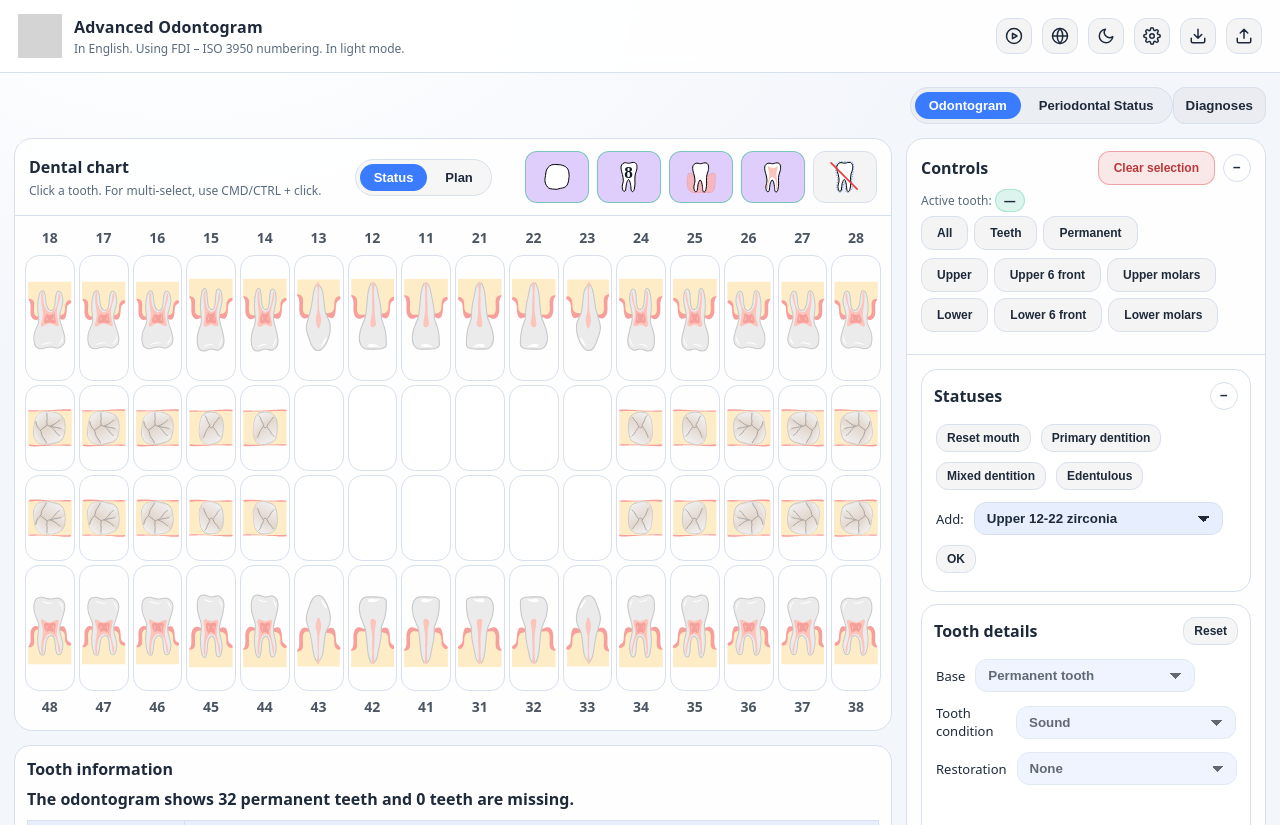
Scenario: Popups interaction characterization › A. Zoom Popover actions › Info button selects tooth and scrolls controls into view
Step 1. Press the mouse on the option named "11" → (426, 318), box [401,255,451,381]
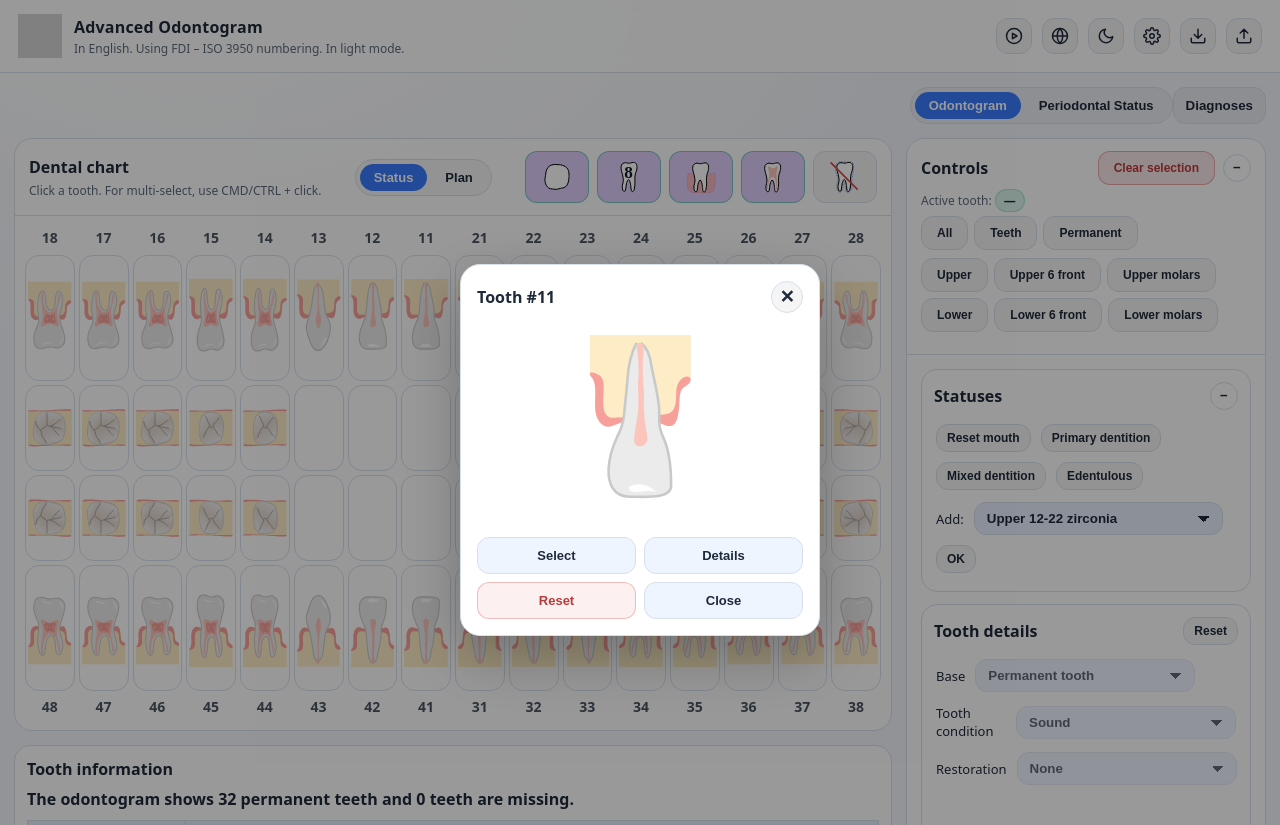
Expected: the element with class "odon-zoom-popover" is shown, [460,264,820,636]
Expected: the button with class "odon-zoom-btn" showing "Details" is shown
Step 2. Click the button with class "odon-zoom-btn" showing "Details" → (724, 556), box [644,537,803,574]
(page scrolled)
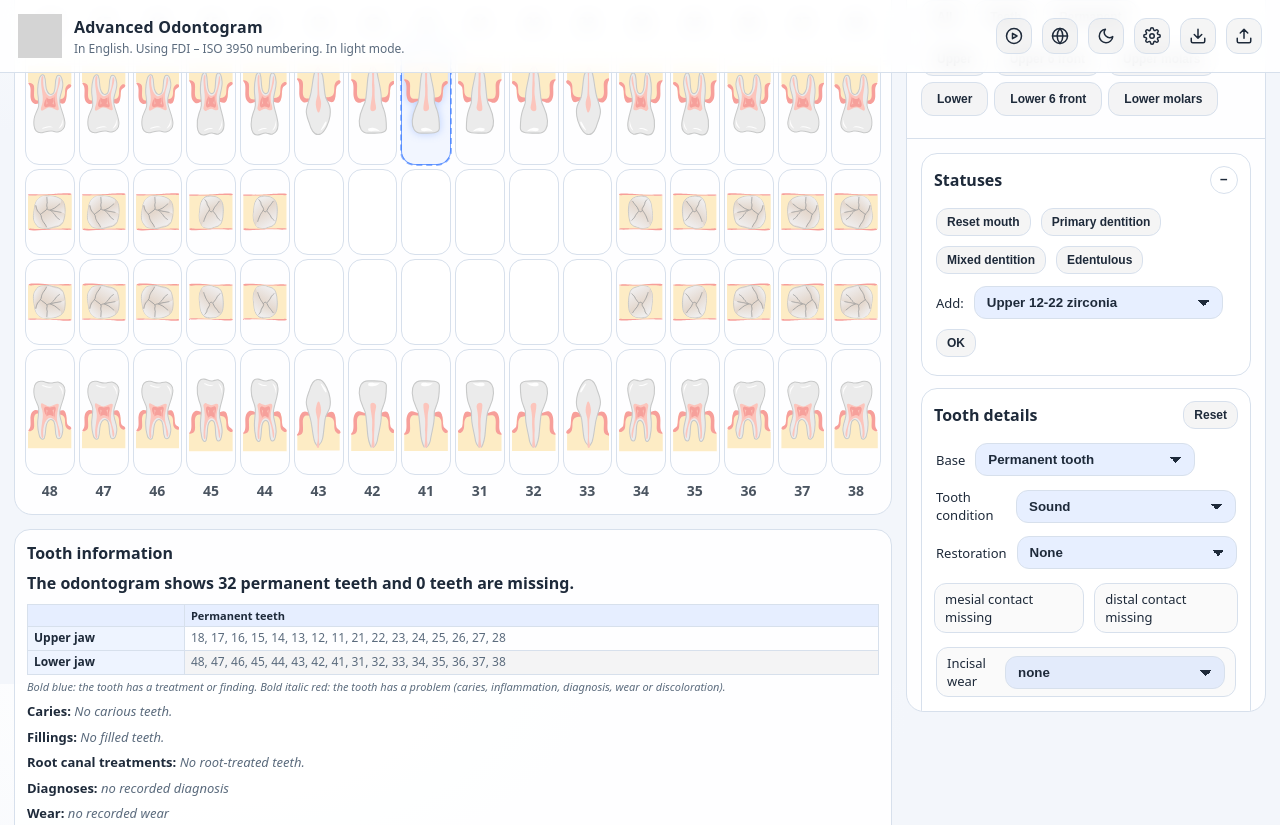
Expected: the element with class "odon-zoom-popover" is gone
